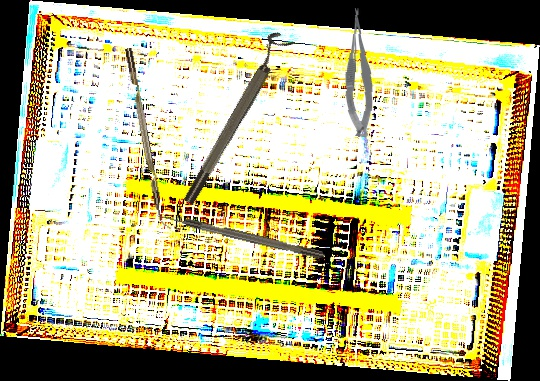Chopper: (125, 46, 173, 231)
Fixation Ring: (173, 29, 295, 207)
Hook Surgical: (155, 210, 326, 261)
Micro Scissor: (342, 7, 378, 138)
